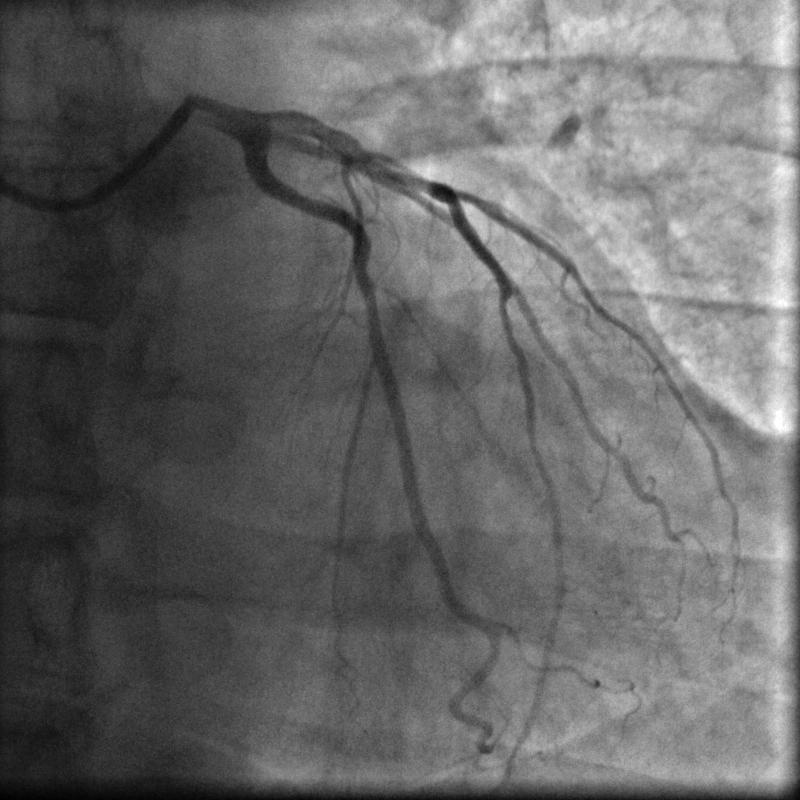Stenosis: (361, 147, 444, 197)
